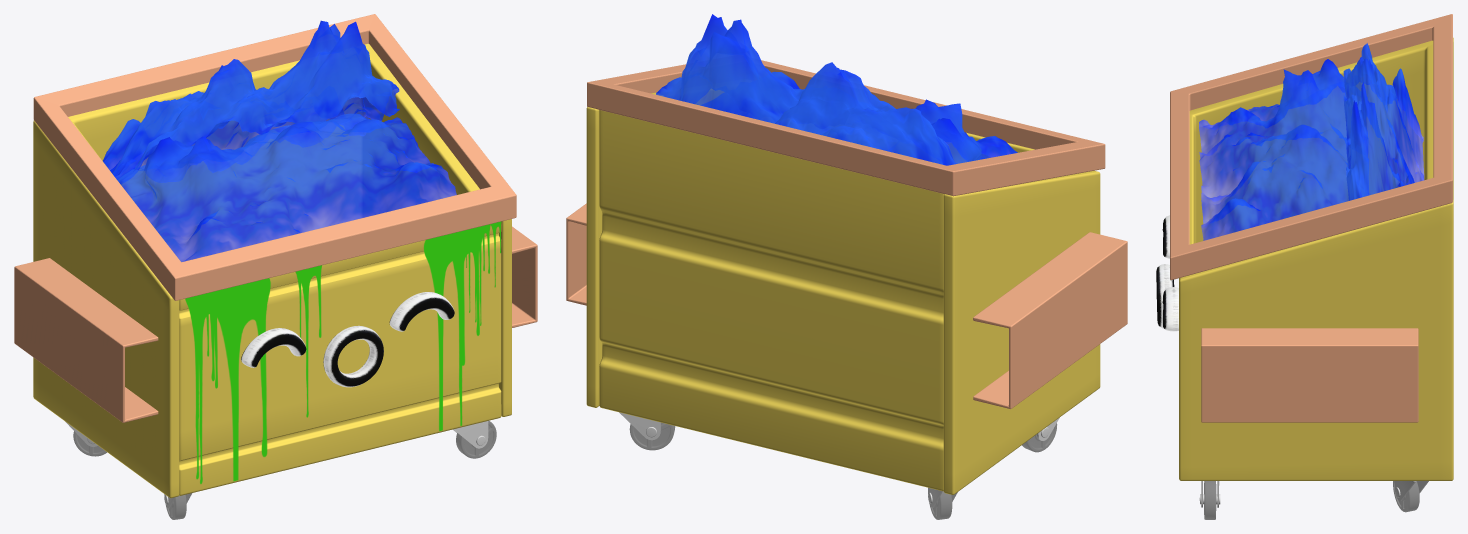
The picture shows the model from 3 angles, left to right: view 1: azimuth 30°, elevation 25°; view 2: azimuth 150°, elevation 25°; view 3: azimuth 270°, elevation 25°; orthographic projection. The views are drawn at different scales.
Visible parts, largest first — view 1: Dumpster Geometry, Small Fire.001, Fire Small Back.001, Wheel Holder; view 2: Dumpster Geometry, Fire Small Back.001, Small Fire.001, Wheel Holder; view 3: Dumpster Geometry, Small Fire.001, Fire Small Back.001, Wheel Holder.
Boxes of the visible parts, x1,y1,x2,y2 form: Dumpster Geometry: [14, 14, 537, 519]; Small Fire.001: [117, 113, 456, 261]; Fire Small Back.001: [103, 20, 399, 183]; Wheel Holder: [65, 421, 488, 508]; Dumpster Geometry: [566, 60, 1127, 519]; Fire Small Back.001: [656, 14, 956, 165]; Small Fire.001: [701, 71, 1017, 163]; Wheel Holder: [619, 412, 1059, 507]; Dumpster Geometry: [1156, 14, 1453, 519]; Small Fire.001: [1199, 59, 1368, 240]; Fire Small Back.001: [1343, 43, 1424, 200]; Wheel Holder: [1199, 481, 1428, 507].
Size of the model in its own units: 2.3 by 2.12 by 1.43.
8 materials, 4 textured.
